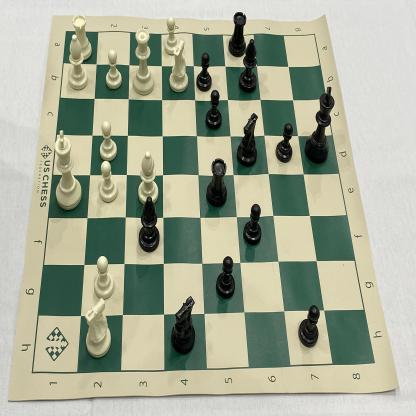black-bishop: (136, 195, 162, 257), (238, 35, 258, 97)
black-king: (302, 81, 337, 167)
black-knight: (168, 293, 198, 357), (236, 109, 261, 171)
black-pawn: (297, 301, 322, 352), (214, 250, 238, 301), (242, 198, 263, 251), (274, 121, 296, 168), (193, 50, 214, 93), (204, 88, 224, 133)
black-rook: (204, 152, 230, 210), (225, 5, 248, 59)
white-bishop: (64, 32, 91, 94), (135, 146, 161, 208)
white-king: (50, 126, 86, 215)
white-knight: (81, 296, 114, 362), (166, 37, 191, 95)
white-pawn: (96, 157, 120, 207), (91, 251, 115, 300), (96, 116, 119, 164), (159, 13, 183, 57), (102, 47, 124, 90)
white-queen: (129, 27, 157, 100)
white-rook: (68, 10, 97, 64)
